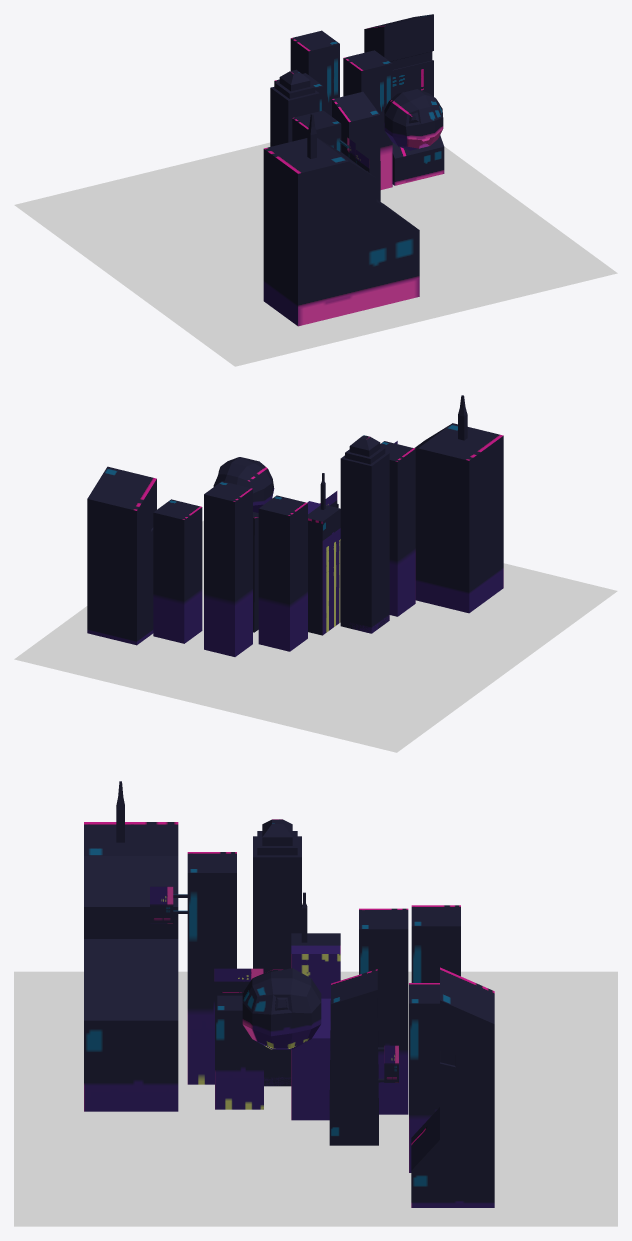
Rendered from michimaker-space.glb.
3 views of the same model, one above another, from view 1: azimuth 30°, elevation 25°; view 2: azimuth 150°, elevation 25°; view 3: azimuth 270°, elevation 25° (orthographic). The views are drawn at different scales.
Parts seen in each view (by area): view 1: Plane, Cube; view 2: Cube, Plane; view 3: Cube, Plane.
Part boxes in pixels (<box>): Plane: <box>14,142,617,366</box>; Cube: <box>263,14,444,326</box>; Cube: <box>87,395,503,656</box>; Plane: <box>14,520,617,752</box>; Cube: <box>84,781,494,1207</box>; Plane: <box>14,971,617,1226</box>.
Bounding box in the file's own units: 24.56 × 12.99 × 24.56.
Materials: 2 (1 with a texture image).
